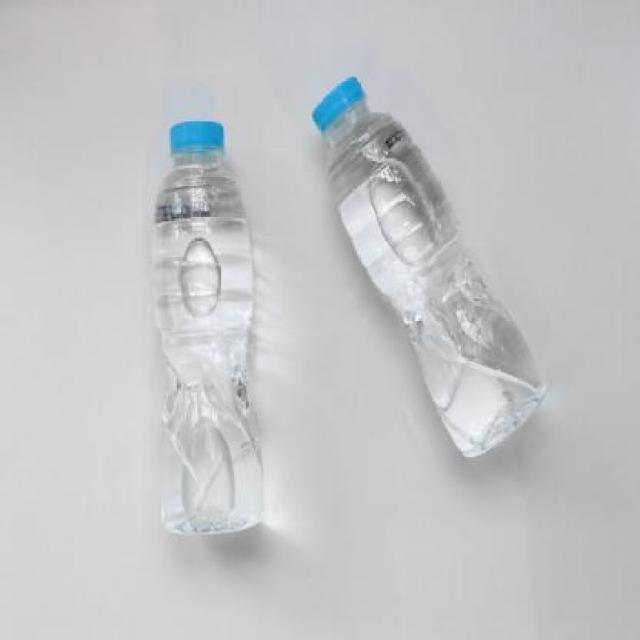bottle: (306, 68, 554, 472), (141, 118, 270, 535)
